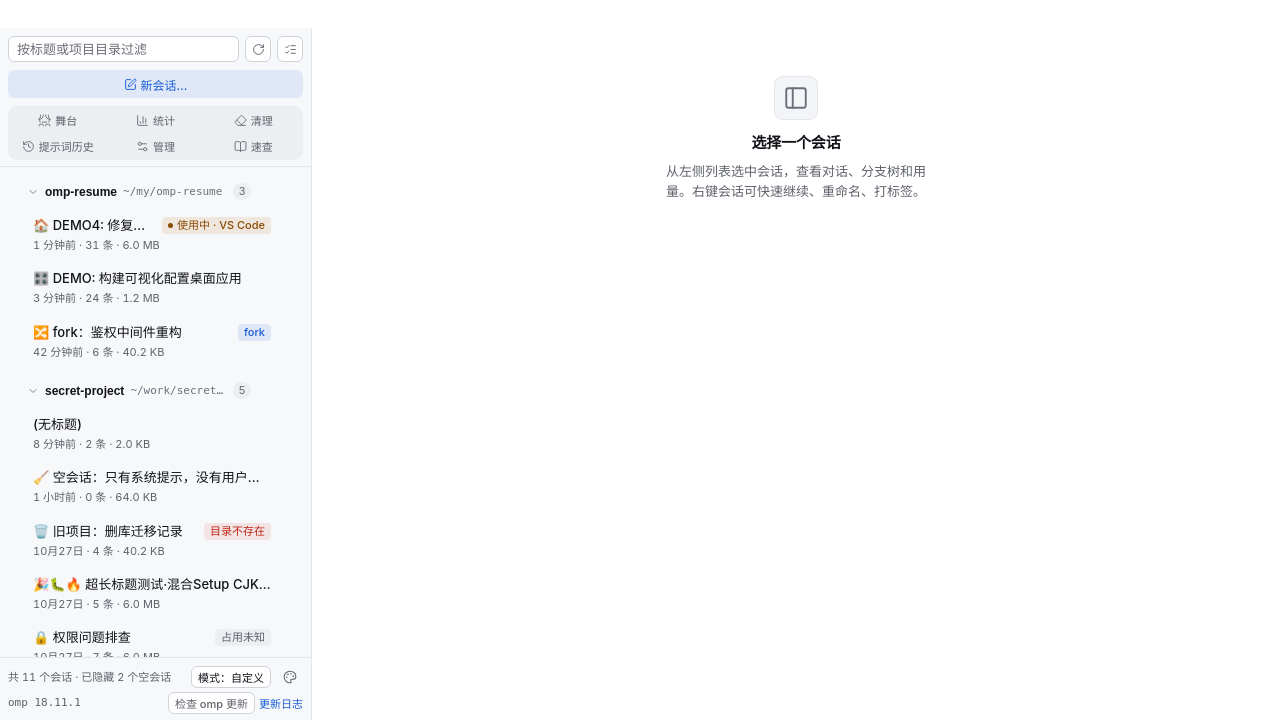
Test: 缺 cwd 会话 › 在 iTerm 继续与从此节点继续均因缺 cwd 禁用，不触碰后端
The width and height of the screenshot is (1280, 720).
Expected: the text "🎛️ DEMO: 构建可视化配置桌面应用" is shown, [33,269,271,288]
Click the element showing "🗑️ 旧项目：删库迁移记录 目录不存在 10月27日 · 4 条 · 40.2 KB": click(152, 540) [33,523,271,558]
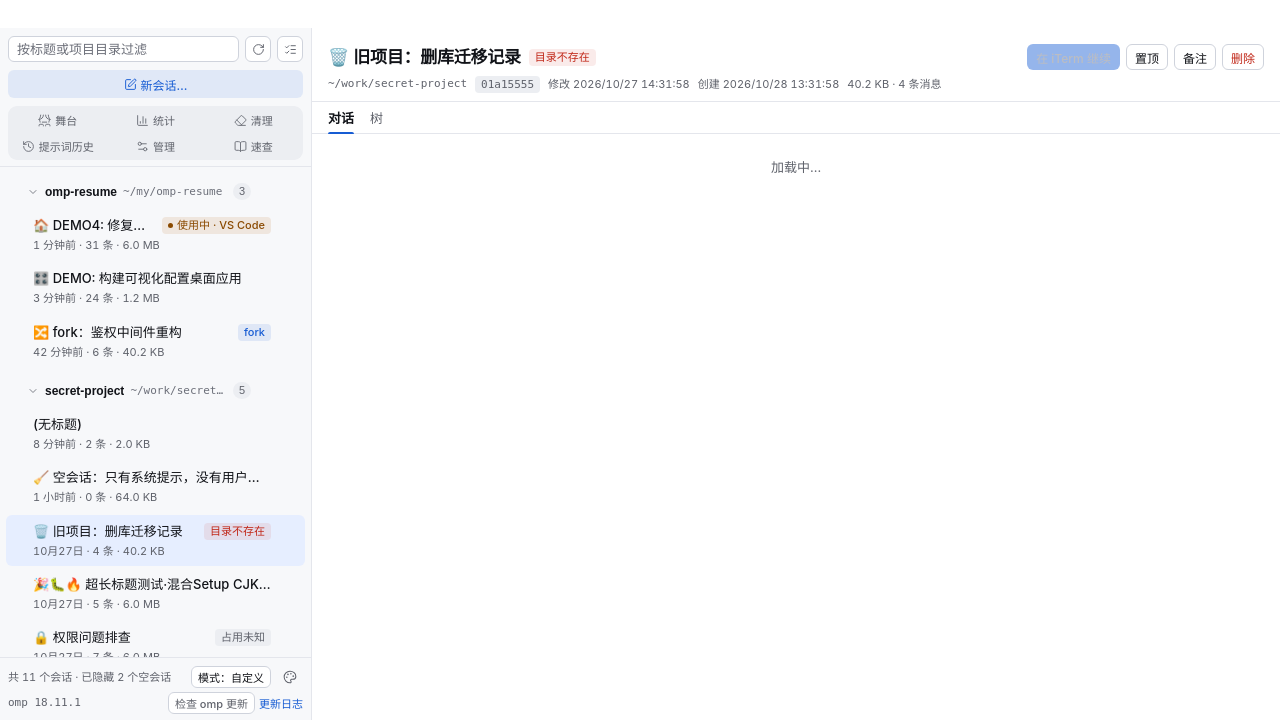
Result: the button "在 iTerm 继续" is disabled at [1027,44,1120,70]
Click the tab "树": click(376, 118) [370,102,383,133]
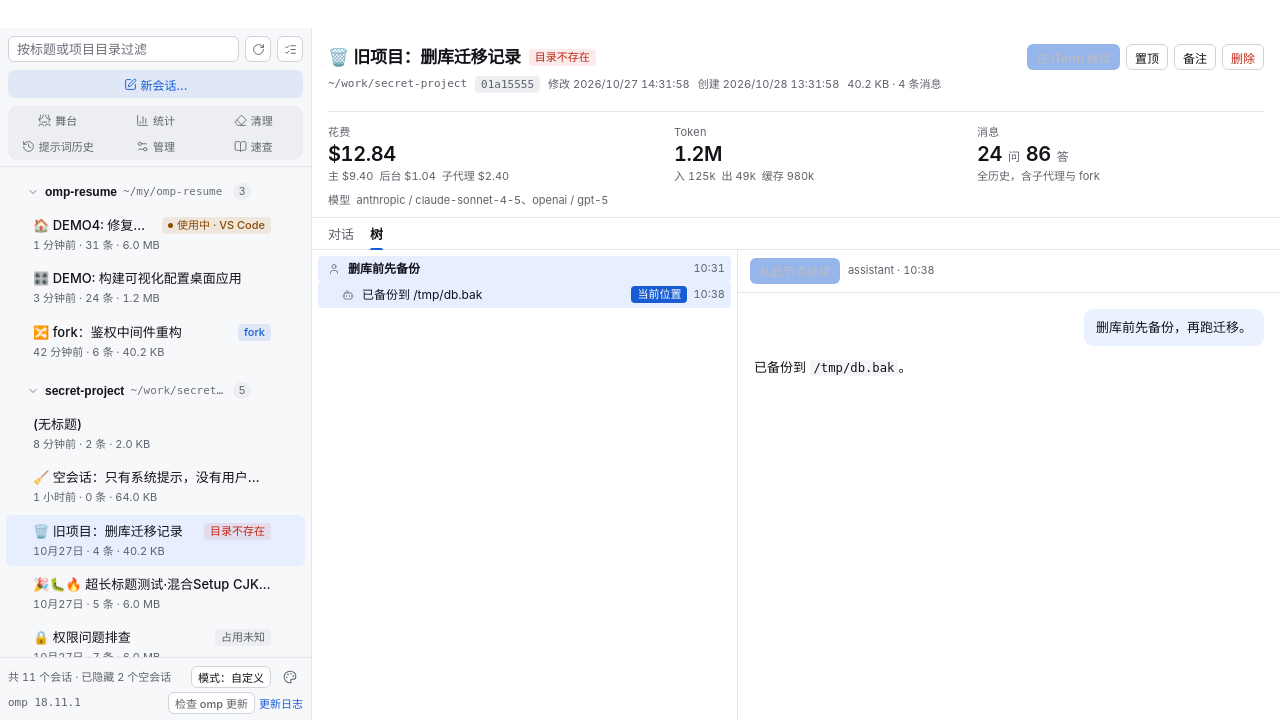
Result: the text "当前位置" is shown at [631,286,687,303]
Result: the button "从此节点继续" is disabled at [750,258,840,284]
